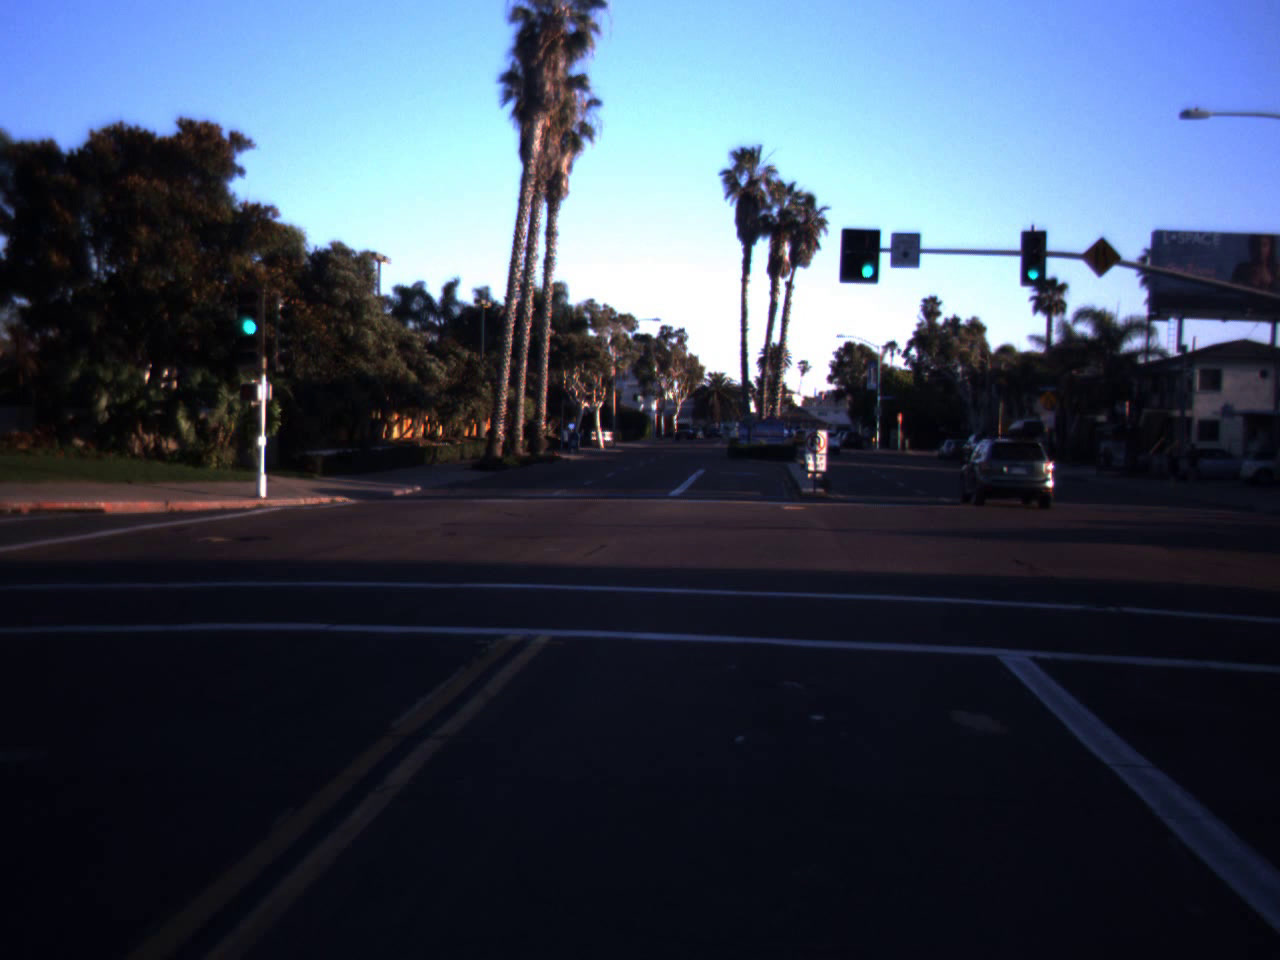go: (233, 275, 266, 340), (853, 227, 880, 282), (1020, 243, 1047, 283)
